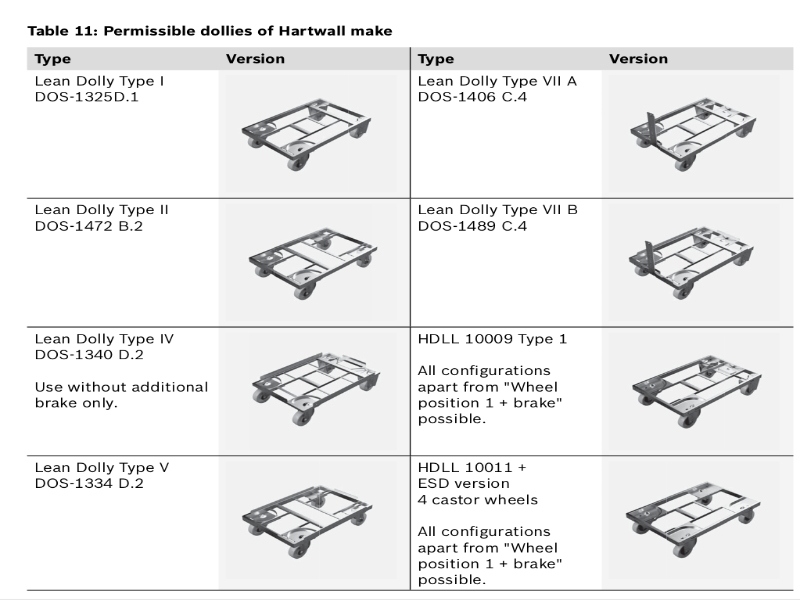borderless: (16, 41, 800, 597)
cell: (413, 458, 588, 587), (413, 331, 588, 428), (29, 378, 211, 412), (415, 201, 588, 234), (413, 73, 581, 104), (27, 459, 180, 492), (29, 73, 176, 107), (29, 200, 176, 234), (29, 331, 176, 365), (222, 48, 293, 69), (605, 49, 672, 68), (414, 50, 464, 68), (31, 50, 75, 68)
